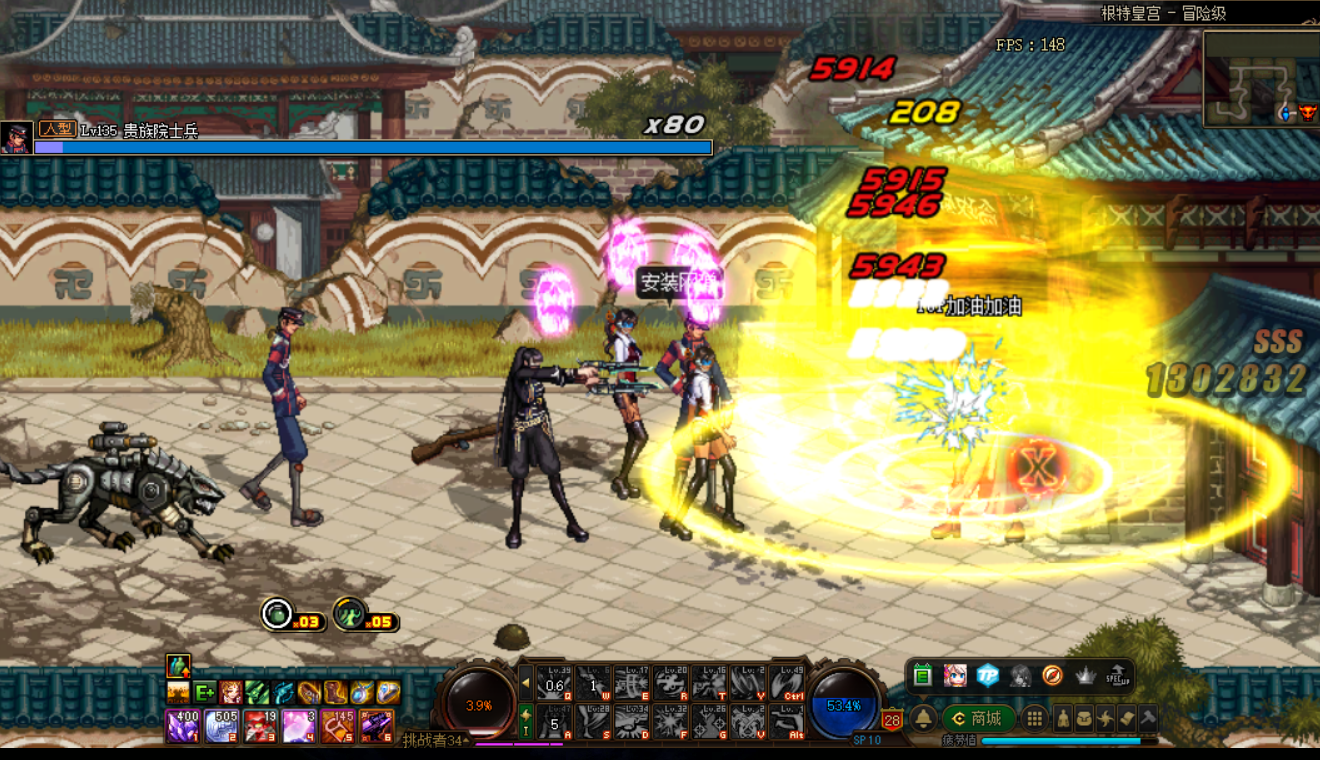monster: (483, 347, 668, 553), (10, 416, 241, 574), (238, 297, 341, 531), (664, 313, 756, 547), (598, 309, 665, 502)
warrior: (918, 334, 1037, 554)
